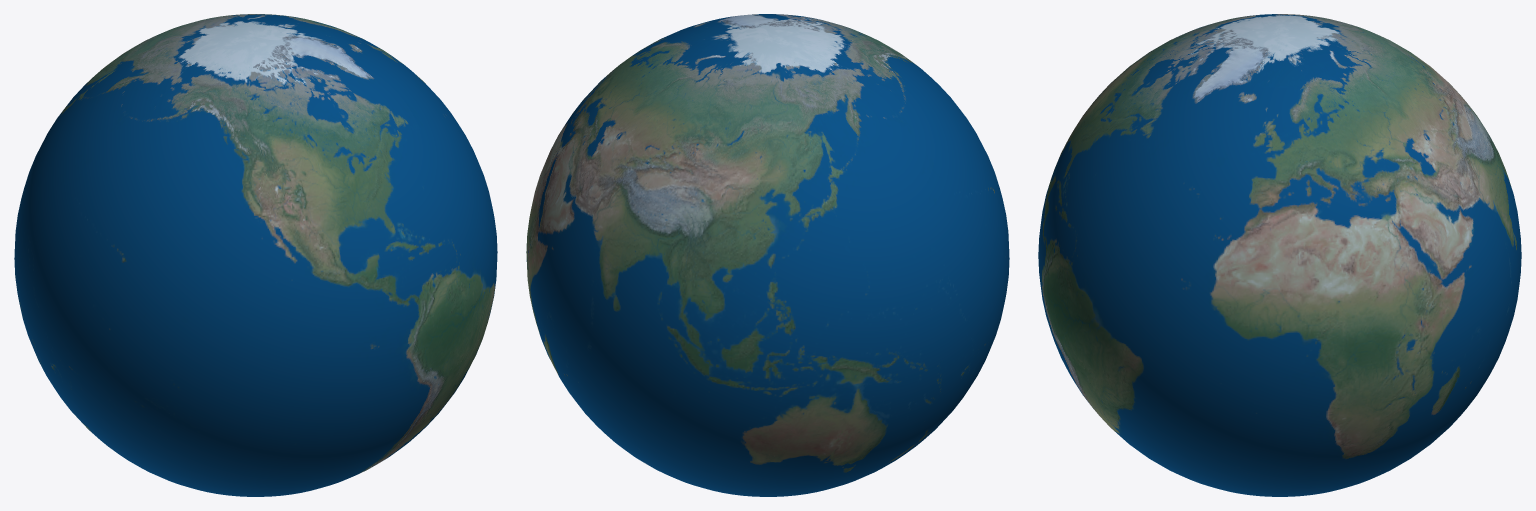
The model's file is earth.glb.
The picture shows the model from 3 angles, left to right: view 1: azimuth 30°, elevation 25°; view 2: azimuth 150°, elevation 25°; view 3: azimuth 270°, elevation 25°; orthographic projection.
Visible parts, largest first — view 1: Earth; view 2: Earth; view 3: Earth.
Part boxes in pixels (left/top/right/bottom): Earth: left=14, top=14, right=497, bottom=496; Earth: left=526, top=14, right=1009, bottom=496; Earth: left=1038, top=14, right=1521, bottom=496.
Size of the model in its own units: 2 by 2 by 2.
Materials: 2 (1 with a texture image).
